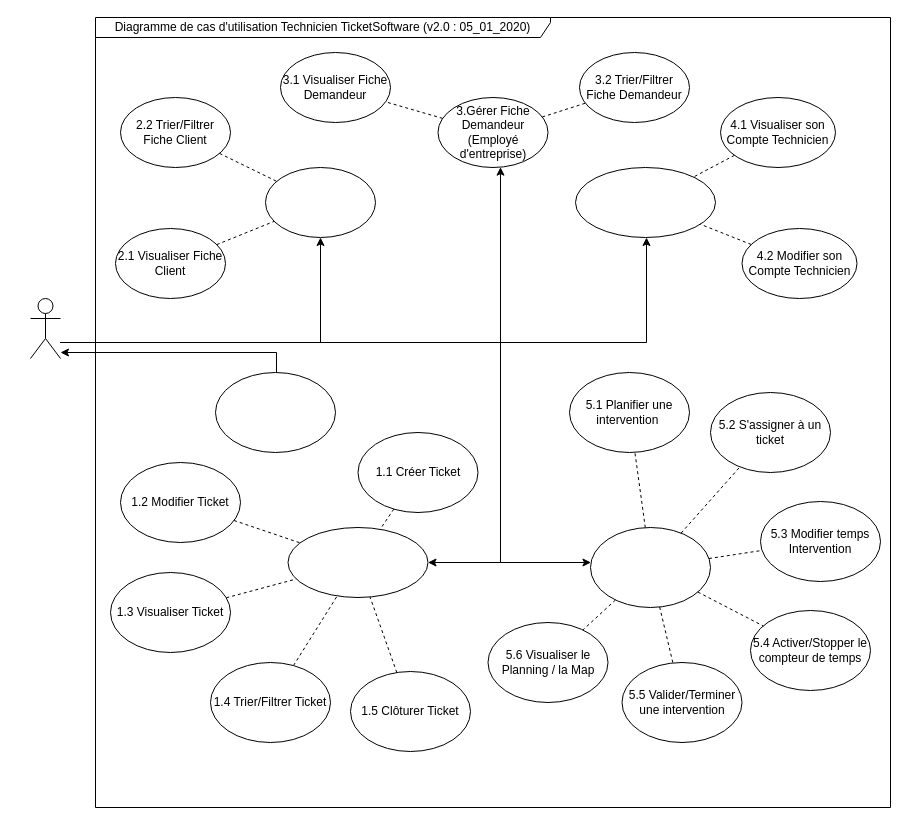
The diagram is 908 pixels wide and 825 high, and some of its shapes have lost their labels. Here are the shapes that lost their labels. From the top down, the centre of each, then its label:
pixel 320 202: 2.Gérer Fiche Client (Entreprise)
pixel 645 202: 4. Gérer son Compte Technicien
pixel 45 328: Technicien
pixel 275 412: 6. Notifier
pixel 357 562: 1. Gérer Ticket
pixel 650 567: 5. Intervention
